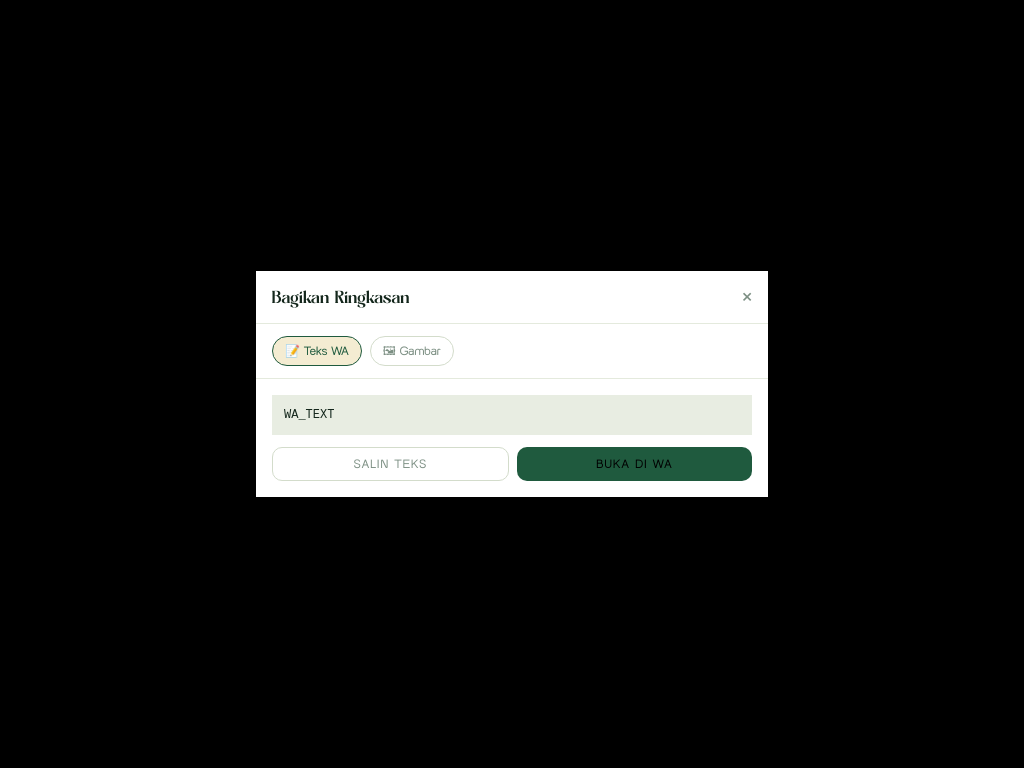
Test: ShareModal › shows Unduh PNG button in gambar tab
This screenshot has width=1024, height=768.
Click the button "🖼 Gambar" at (412, 351), box [370,336,454,366]
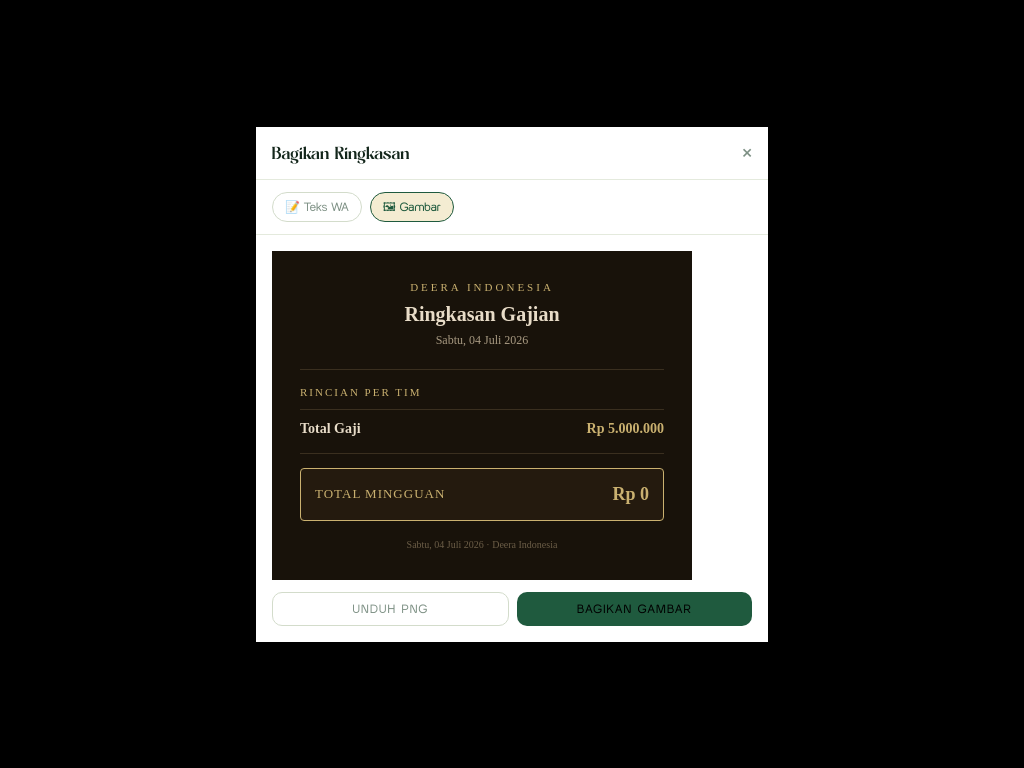
Check: the button "Unduh PNG" is shown, box [272,592,509,626]
